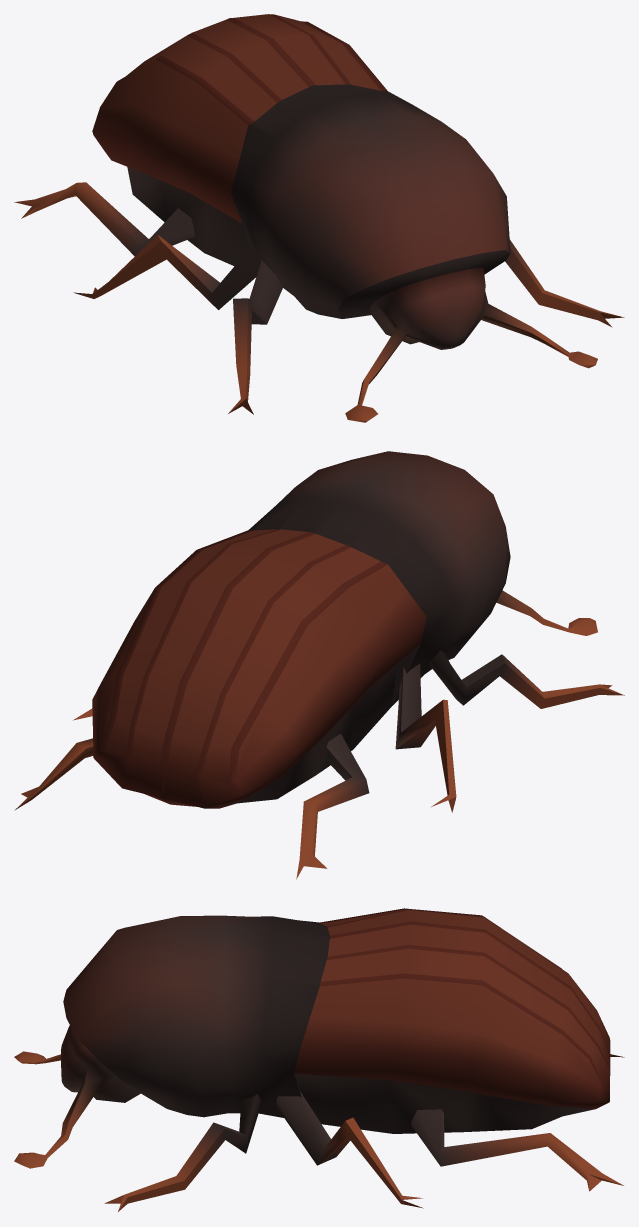
The model's file is animals-insects-sprucebeetle_v1.fbx.
3 views of the same model, one above another, from view 1: azimuth 30°, elevation 25°; view 2: azimuth 150°, elevation 25°; view 3: azimuth 270°, elevation 25° (orthographic). The views are drawn at different scales.
Visible parts, largest first — view 1: SpruceBeetle.001; view 2: SpruceBeetle.001; view 3: SpruceBeetle.001.
Part boxes in pixels (box(x1,y1,x2,y2)): SpruceBeetle.001: box(14, 14, 624, 422); SpruceBeetle.001: box(14, 451, 624, 879); SpruceBeetle.001: box(14, 908, 624, 1211).
Bounding box in the file's own units: 0.6193 × 0.3174 × 0.8803.
